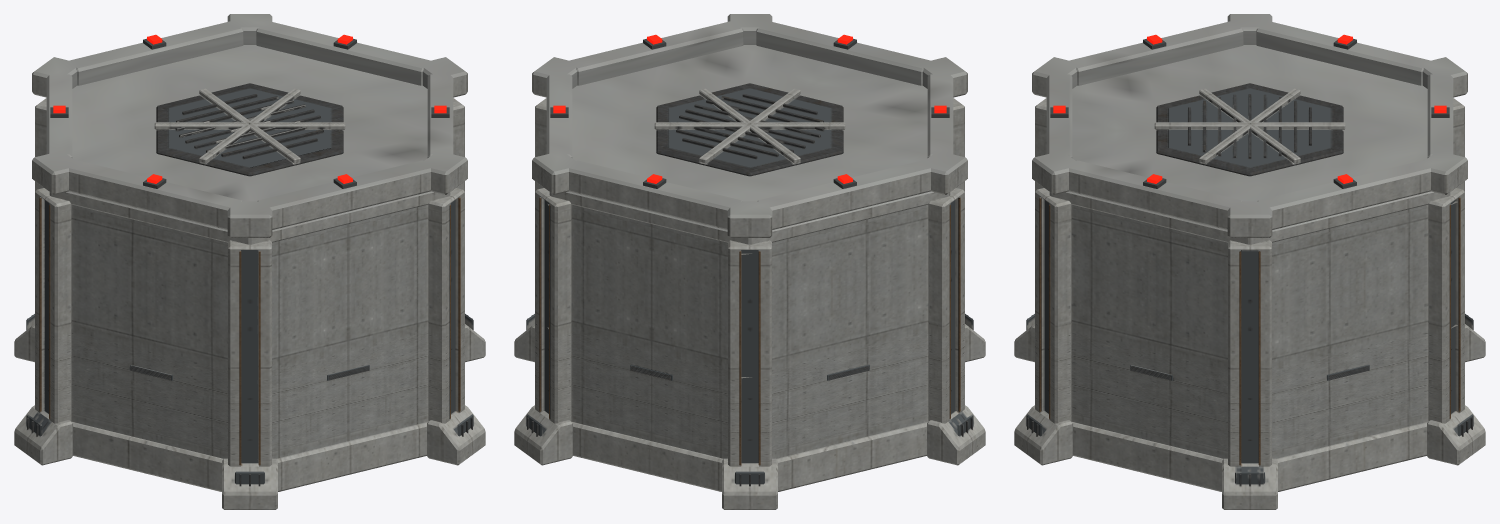
The model's file is pier.glb.
3 renders of one model, left to right at view 1: azimuth 30°, elevation 25°; view 2: azimuth 150°, elevation 25°; view 3: azimuth 270°, elevation 25°, orthographic.
Visible parts, largest first — view 1: pier-lod0-roof0, pier-lod0-base0, pier-lod0-floor0; view 2: pier-lod0-roof0, pier-lod0-base0, pier-lod0-floor0; view 3: pier-lod0-roof0, pier-lod0-base0, pier-lod0-floor0.
Boxes of the visible parts, x1,y1,x2,y2 form: pier-lod0-roof0: (32, 14, 467, 255); pier-lod0-base0: (14, 314, 485, 509); pier-lod0-floor0: (35, 113, 464, 379); pier-lod0-roof0: (532, 14, 967, 255); pier-lod0-base0: (514, 314, 985, 509); pier-lod0-floor0: (535, 113, 964, 379); pier-lod0-roof0: (1032, 14, 1467, 255); pier-lod0-base0: (1014, 314, 1485, 509); pier-lod0-floor0: (1035, 113, 1464, 379).
Size of what is drawn, in the model's own units: 68.04 by 42.97 by 62.35.
7 materials, 5 textured.
